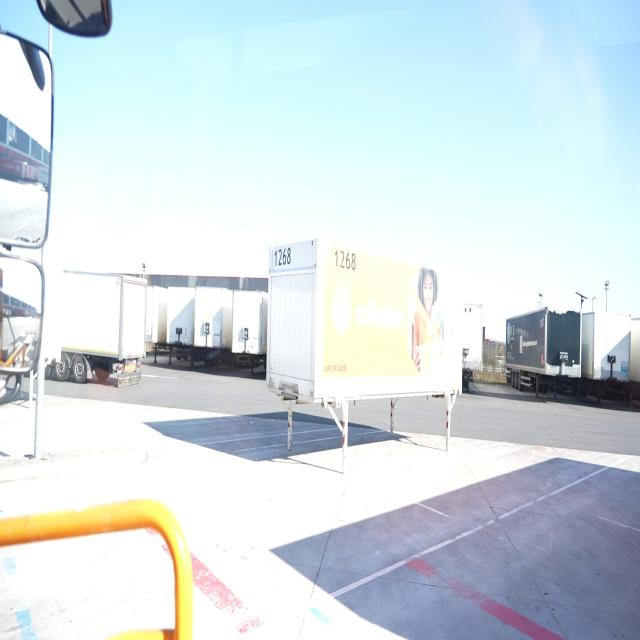Code: (330, 242, 359, 276), (271, 243, 297, 273)
